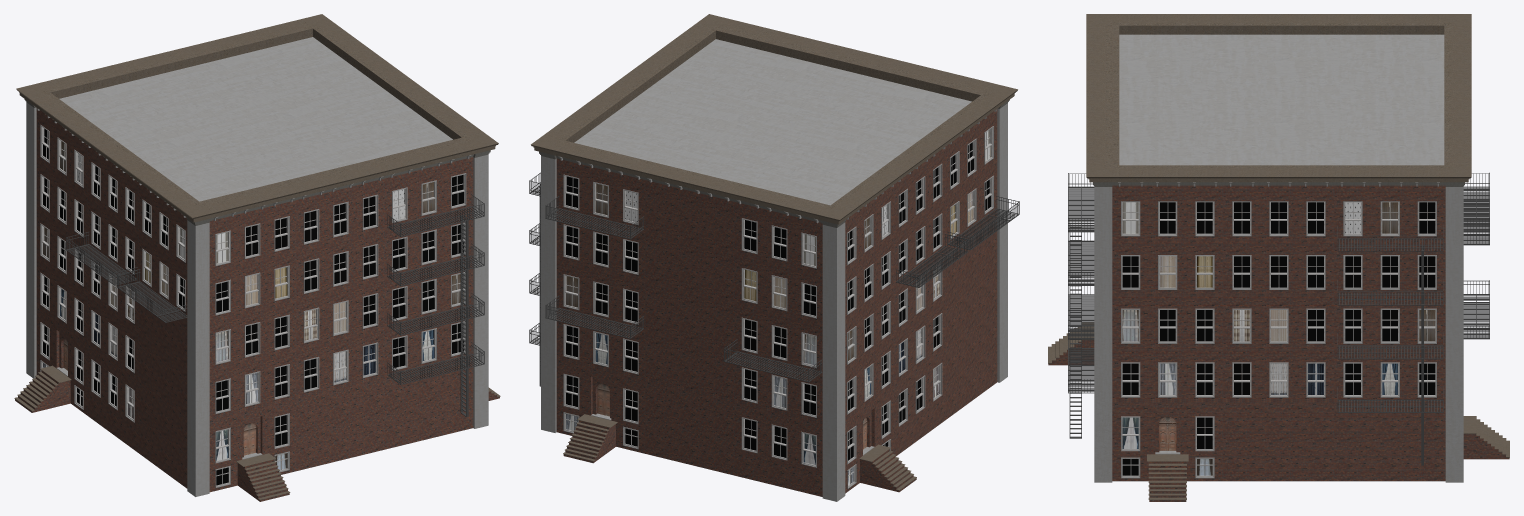
Rendered from Building03.fbx.
The picture shows the model from 3 angles, left to right: view 1: azimuth 30°, elevation 25°; view 2: azimuth 150°, elevation 25°; view 3: azimuth 270°, elevation 25°; orthographic projection. The views are drawn at different scales.
Parts seen in each view (by area): view 1: Building03; view 2: Building03; view 3: Building03.
Part boxes in pixels (x1=…): Building03: x1=14, y1=14, x2=500, y2=501; Building03: x1=529, y1=14, x2=1019, y2=501; Building03: x1=1048, y1=14, x2=1509, y2=501.
Size of the model in its own units: 3116 by 2300 by 3116.
